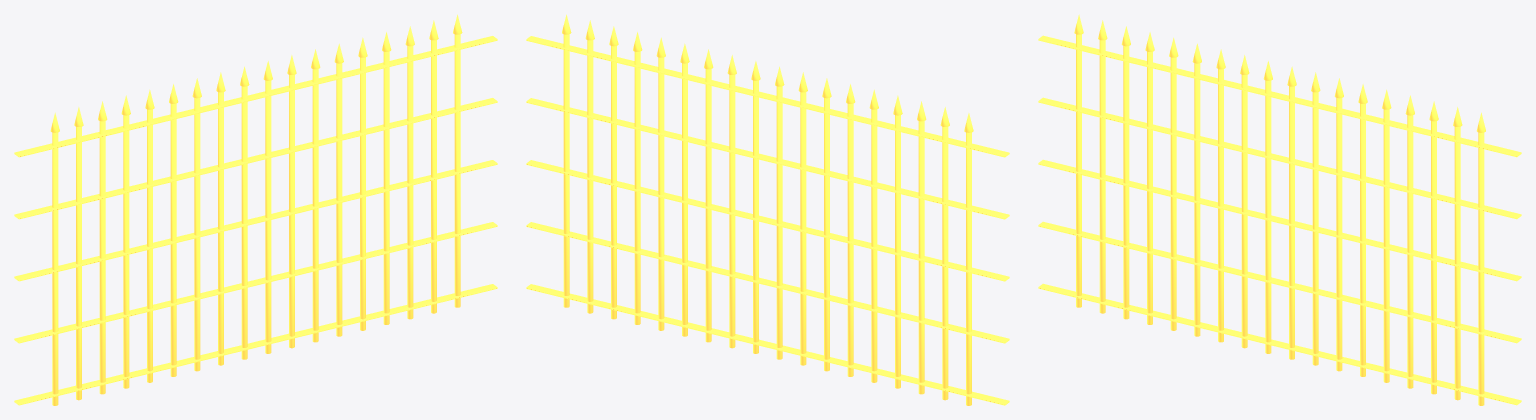
The model's file is portail.glb.
3 renders of one model, left to right at view 1: azimuth 30°, elevation 25°; view 2: azimuth 150°, elevation 25°; view 3: azimuth 330°, elevation 25°, orthographic.
Visible parts, largest first — view 1: Cône, Cube; view 2: Cône, Cube; view 3: Cône, Cube.
Part boxes in pixels (x1,y1,x2,y2): Cône: (50,14,462,405); Cube: (14,36,497,405); Cône: (562,14,973,405); Cube: (526,36,1009,405); Cône: (1074,14,1485,405); Cube: (1038,35,1521,405).
Size of the model in its own units: 25.32 by 14.79 by 0.4439.
